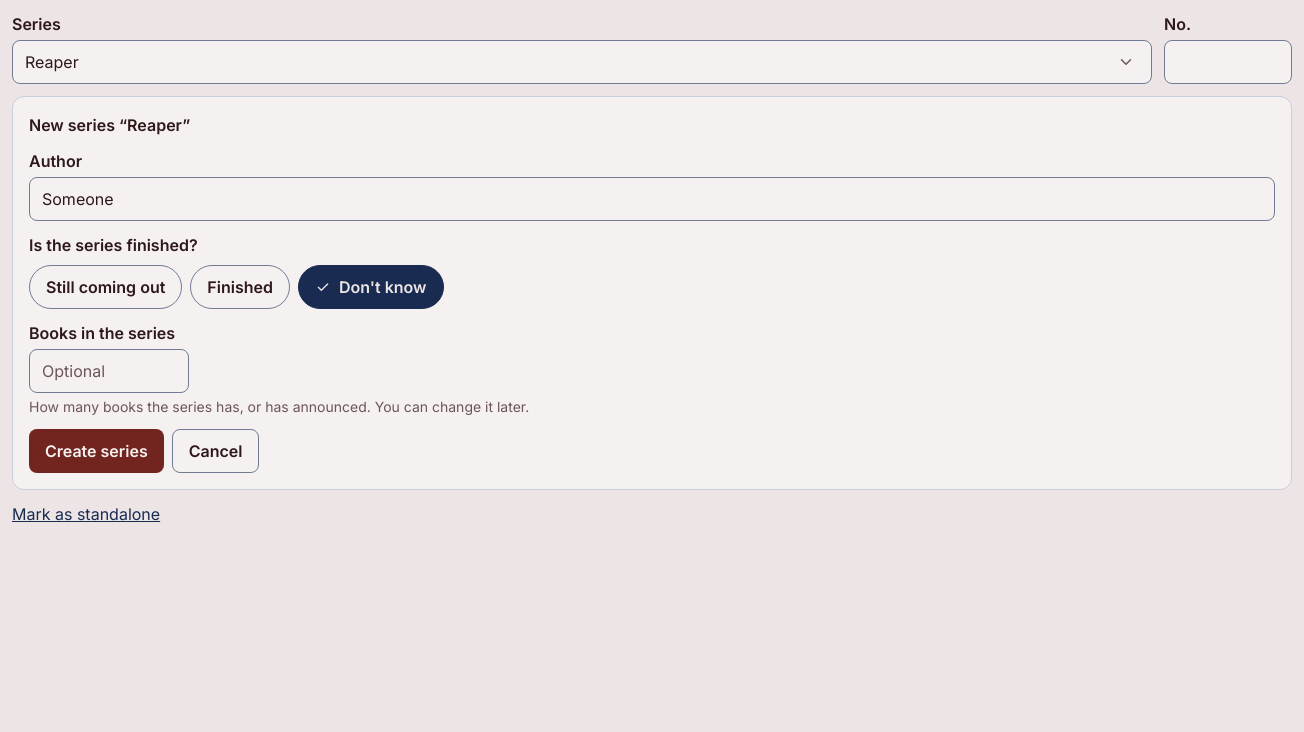
SeriesPicker › keeps the form closed after you cancel it
What coordinates should you click on to do the following:
click the button "Cancel"
I would click on:
 (216, 451)
Its box is [172,429,259,473].
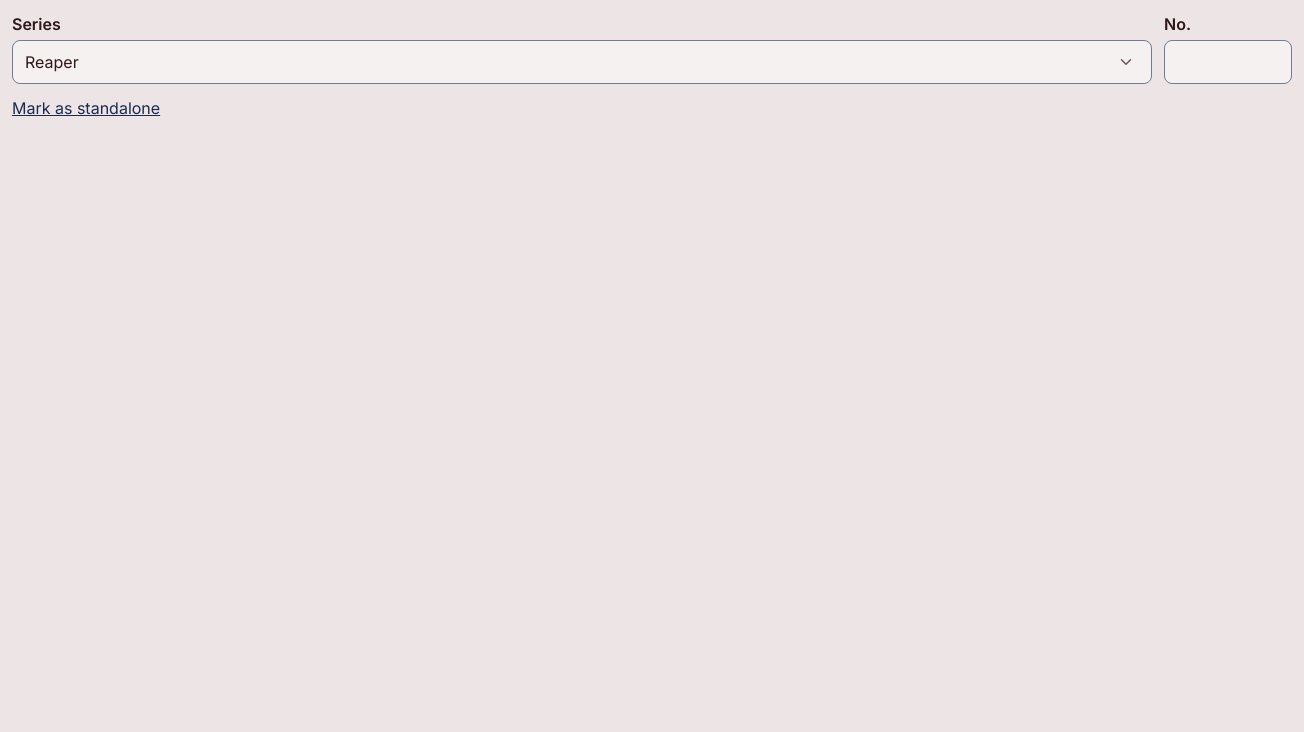
Check: the button "Create series" is gone
